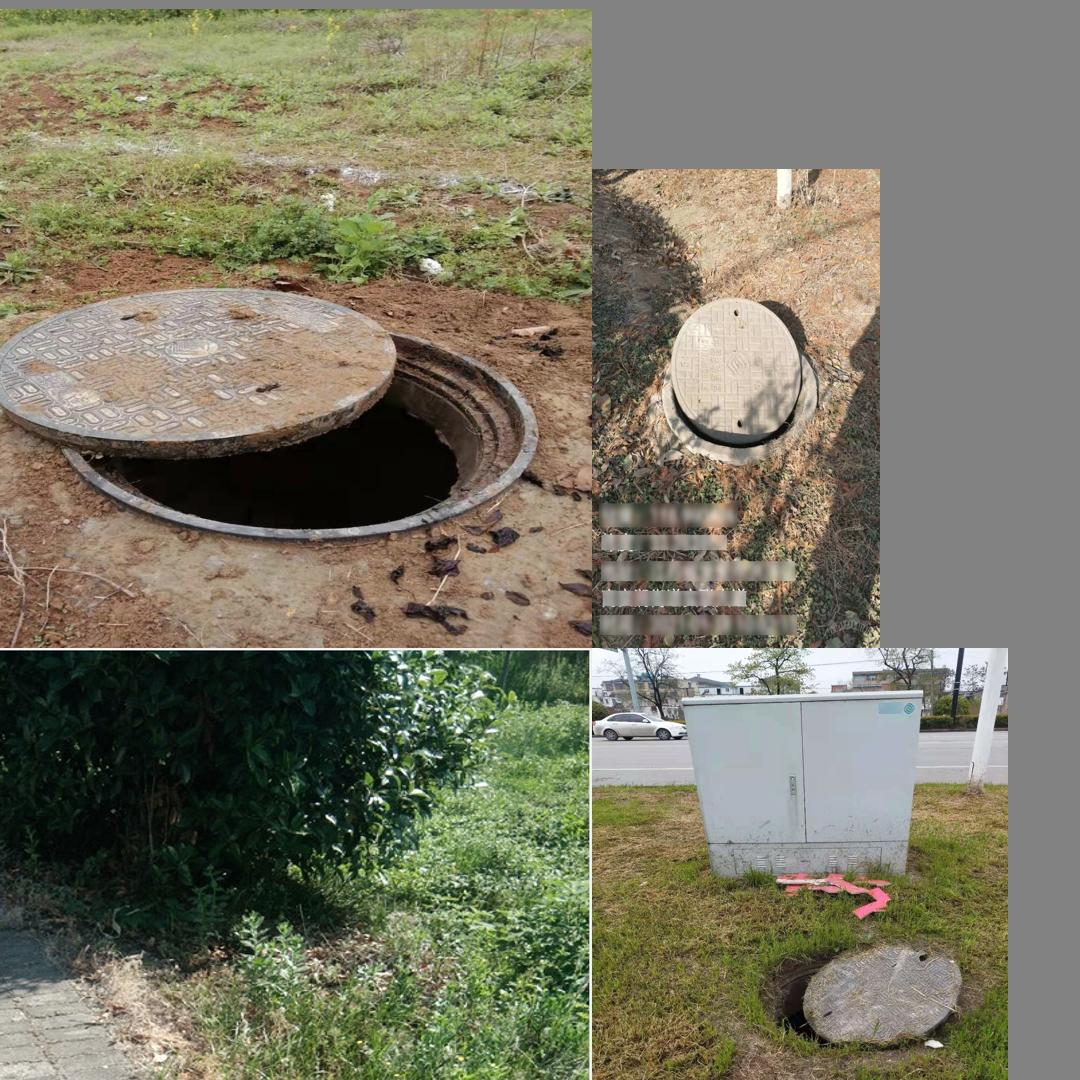uncovered: (0, 289, 546, 544), (666, 295, 808, 446), (762, 943, 964, 1044)
